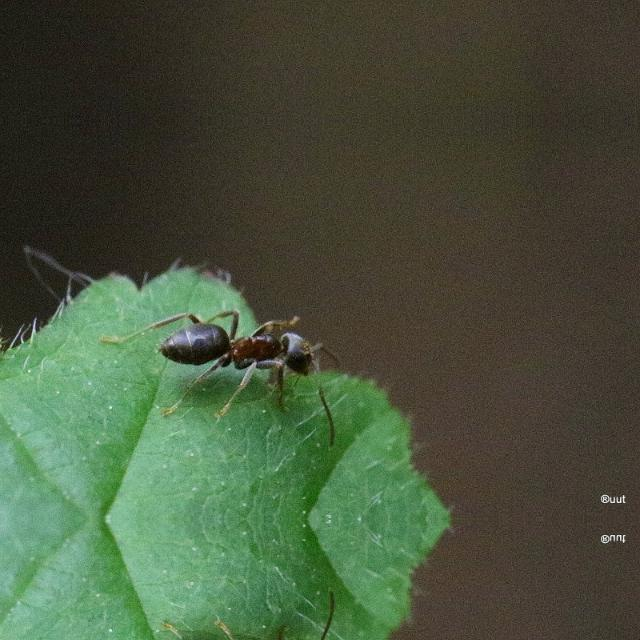Lasius: (133, 293, 367, 401)
